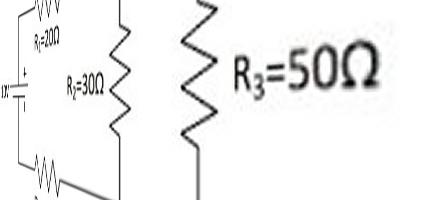resistor: (171, 3, 224, 149), (99, 19, 140, 144), (22, 148, 75, 195)
